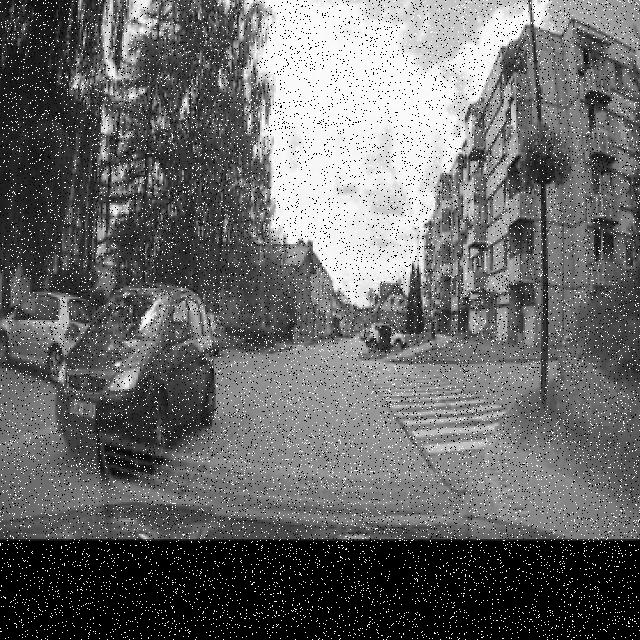clear-road: (172, 338, 483, 483), (430, 363, 541, 408), (18, 432, 96, 467)
